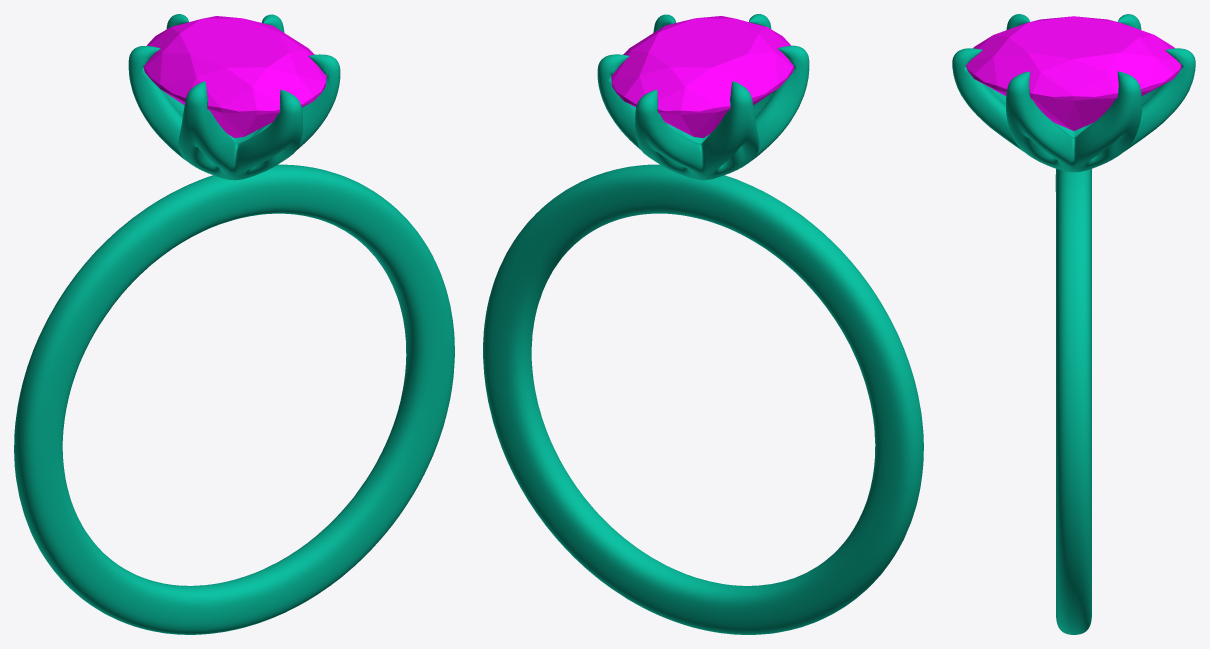
File: BE1902_OV_200ct_RENDER.glb
3 renders of one model, left to right at view 1: azimuth 30°, elevation 25°; view 2: azimuth 150°, elevation 25°; view 3: azimuth 270°, elevation 25°, orthographic.
Parts seen in each view (by area): view 1: Metal 01, CS_Diamond_Oval; view 2: Metal 01, CS_Diamond_Oval; view 3: Metal 01, CS_Diamond_Oval.
Boxes of the visible parts, left/top/right/bottom form: Metal 01: left=14, top=14, right=454, bottom=634; CS_Diamond_Oval: left=143, top=16, right=326, bottom=138; Metal 01: left=483, top=14, right=923, bottom=634; CS_Diamond_Oval: left=611, top=16, right=794, bottom=138; Metal 01: left=952, top=14, right=1195, bottom=634; CS_Diamond_Oval: left=966, top=16, right=1181, bottom=130.
Bounding box in the file's own units: 20.5 × 26.32 × 10.12.
